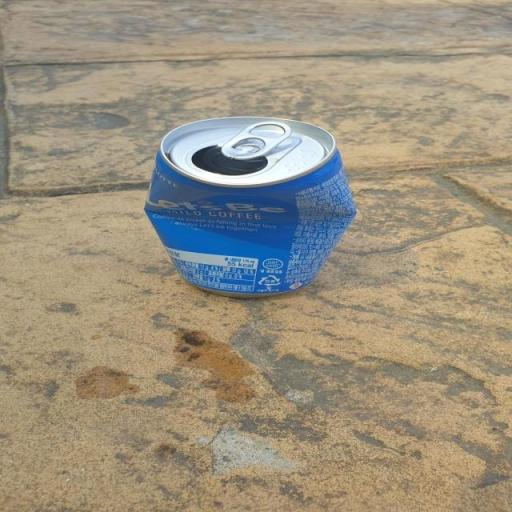metal: (94, 80, 389, 347)
